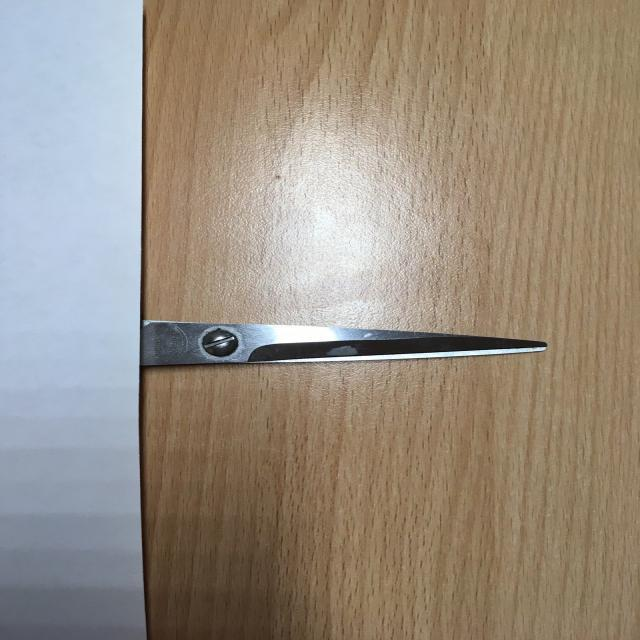scissors: (148, 318, 554, 370)
